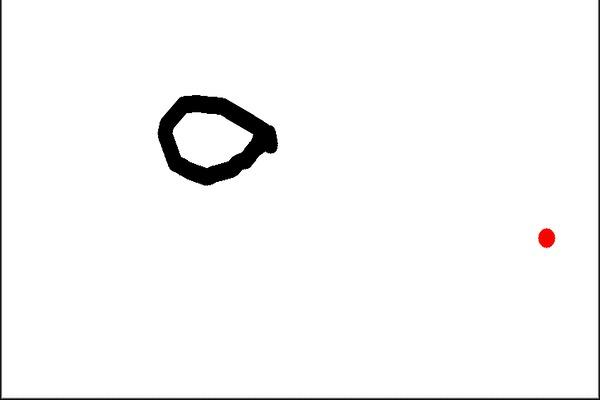O: (140, 74, 282, 202)
